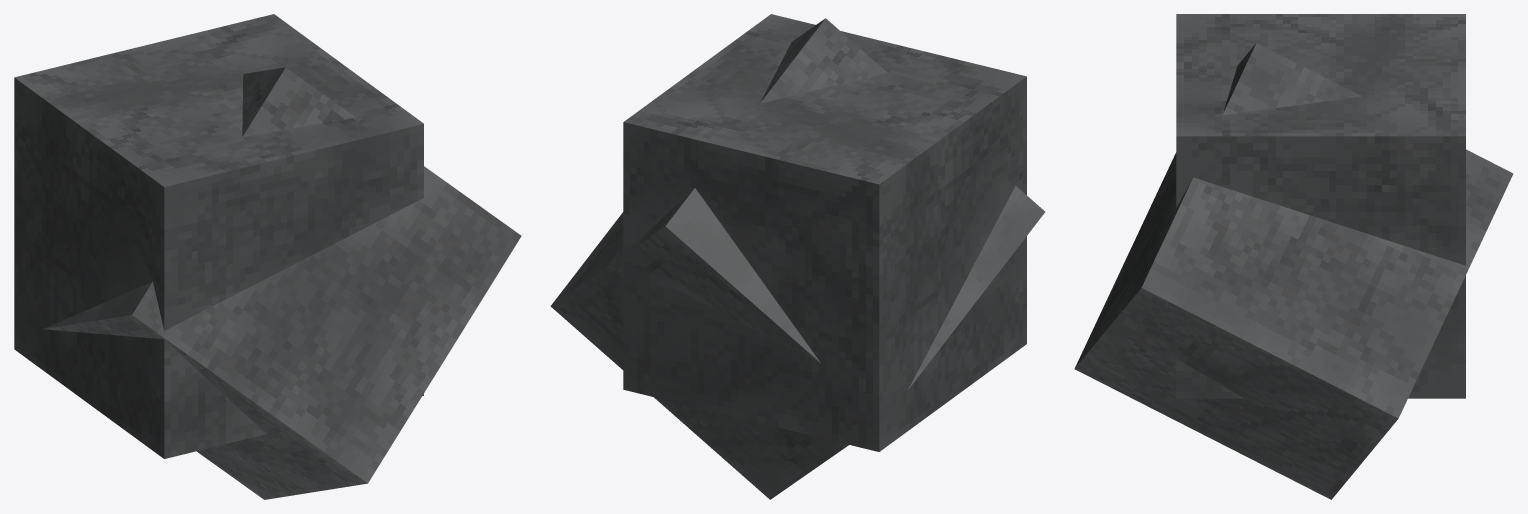
The model's file is big_asteroid.gltf.
3 renders of one model, left to right at view 1: azimuth 30°, elevation 25°; view 2: azimuth 150°, elevation 25°; view 3: azimuth 270°, elevation 25°, orthographic. The views are drawn at different scales.
Visible parts, largest first — view 1: cube (×2); view 2: cube (×2); view 3: cube (×2).
Boxes of the visible parts, box(x1,y1,x2,y2) form: cube (×2): box(14, 14, 521, 499); cube (×2): box(550, 14, 1045, 499); cube (×2): box(1074, 14, 1513, 499).
Bounding box in the file's own units: 3.61 × 4.06 × 3.6.
1 material, 1 textured.
